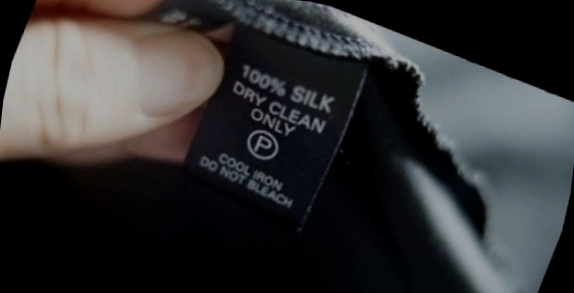dry_clean_any_solvent_except_trichloroethylene: (241, 123, 287, 166)
